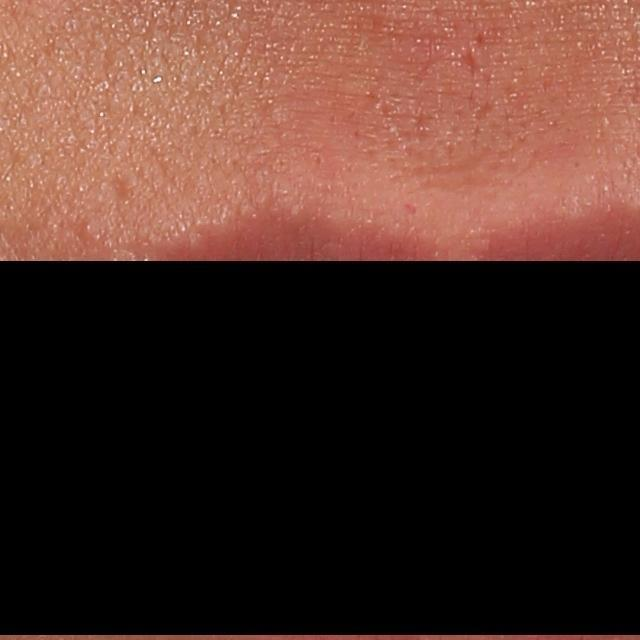comedo: (79, 220, 96, 240)
